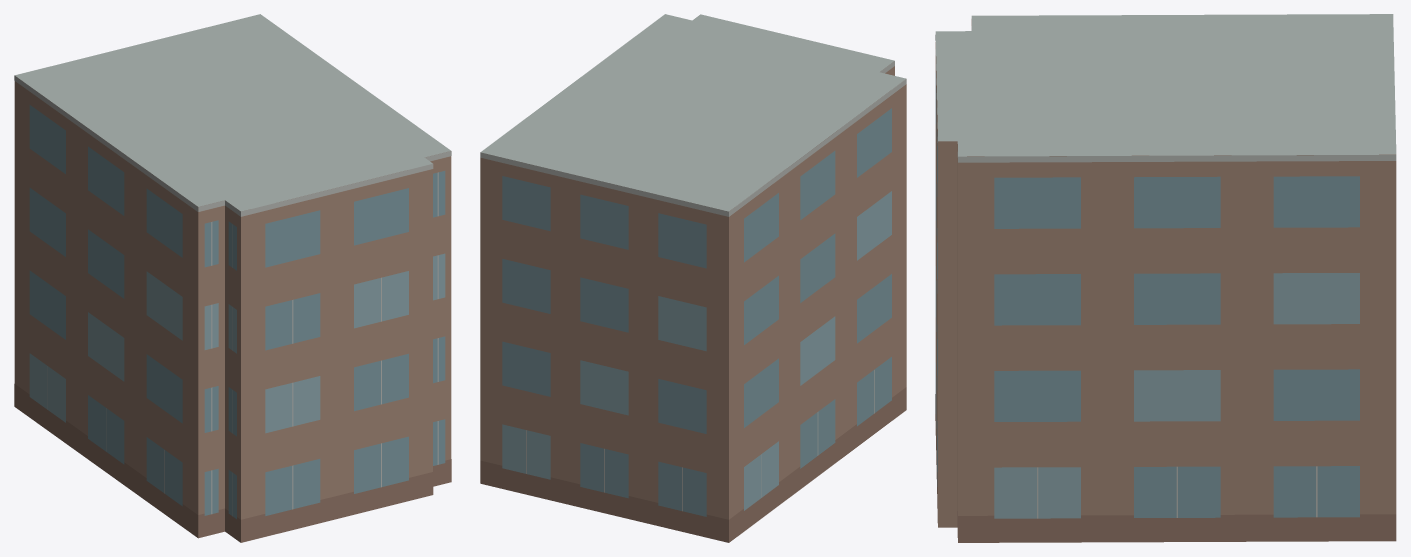
File: survey-upis-32663829.glb
3 renders of one model, left to right at view 1: azimuth 30°, elevation 25°; view 2: azimuth 150°, elevation 25°; view 3: azimuth 270°, elevation 25°, orthographic. The views are drawn at different scales.
Parts seen in each view (by area): view 1: survey-upis-32663829.tmp; view 2: survey-upis-32663829.tmp; view 3: survey-upis-32663829.tmp.
Boxes of the visible parts, <box> form: survey-upis-32663829.tmp: <box>14,14,451,542</box>; survey-upis-32663829.tmp: <box>480,14,906,542</box>; survey-upis-32663829.tmp: <box>935,14,1396,542</box>.
Bounding box in the file's own units: 12.03 × 15.2 × 16.44.
